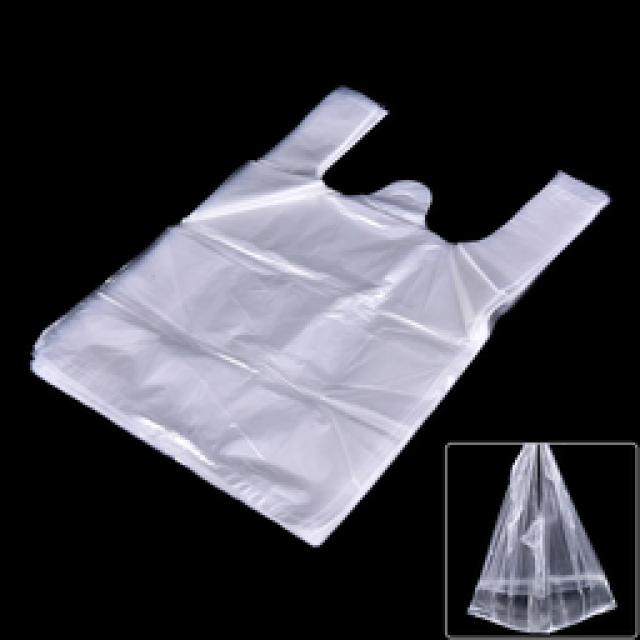plastic: (30, 88, 608, 545), (468, 442, 612, 632)
